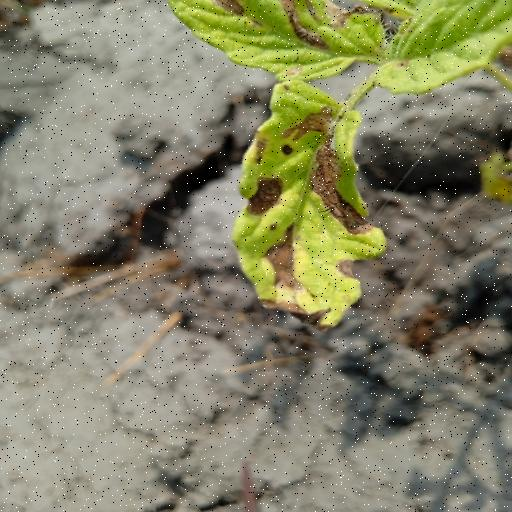Tomato_Brown_Spots: (227, 73, 403, 328)
